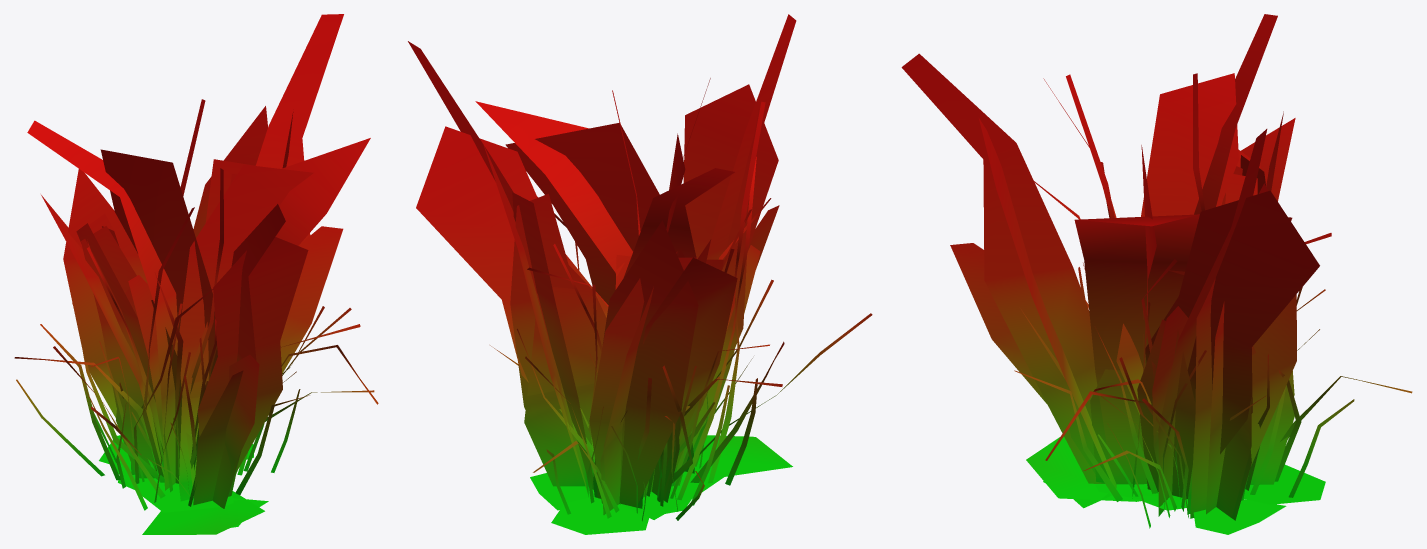
The model's file is Var3_LOD1.fbx.
3 renders of one model, left to right at view 1: azimuth 30°, elevation 25°; view 2: azimuth 150°, elevation 25°; view 3: azimuth 270°, elevation 25°, orthographic. The views are drawn at different scales.
Parts seen in each view (by area): view 1: _1c38_Var3_LOD1; view 2: _1c38_Var3_LOD1; view 3: _1c38_Var3_LOD1.
Part boxes in pixels (<box>): _1c38_Var3_LOD1: <box>14,14,378,534</box>; _1c38_Var3_LOD1: <box>408,14,872,534</box>; _1c38_Var3_LOD1: <box>901,14,1412,534</box>.
Size of the model in its own units: 33.26 by 37.34 by 37.01.
